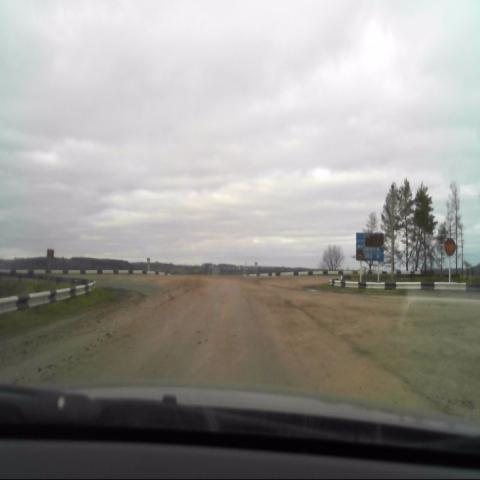2_5: (444, 236, 456, 255)
